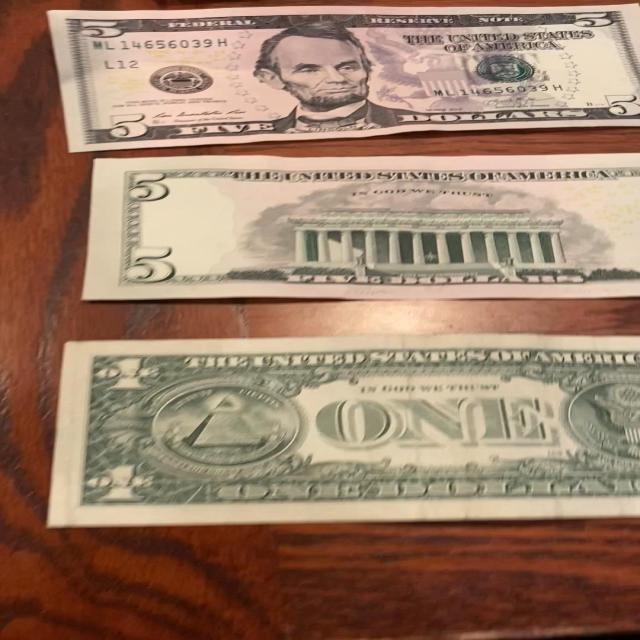1-Back: (35, 331, 640, 530)
5-Back: (74, 157, 640, 308)
5-Front: (42, 2, 639, 156)
